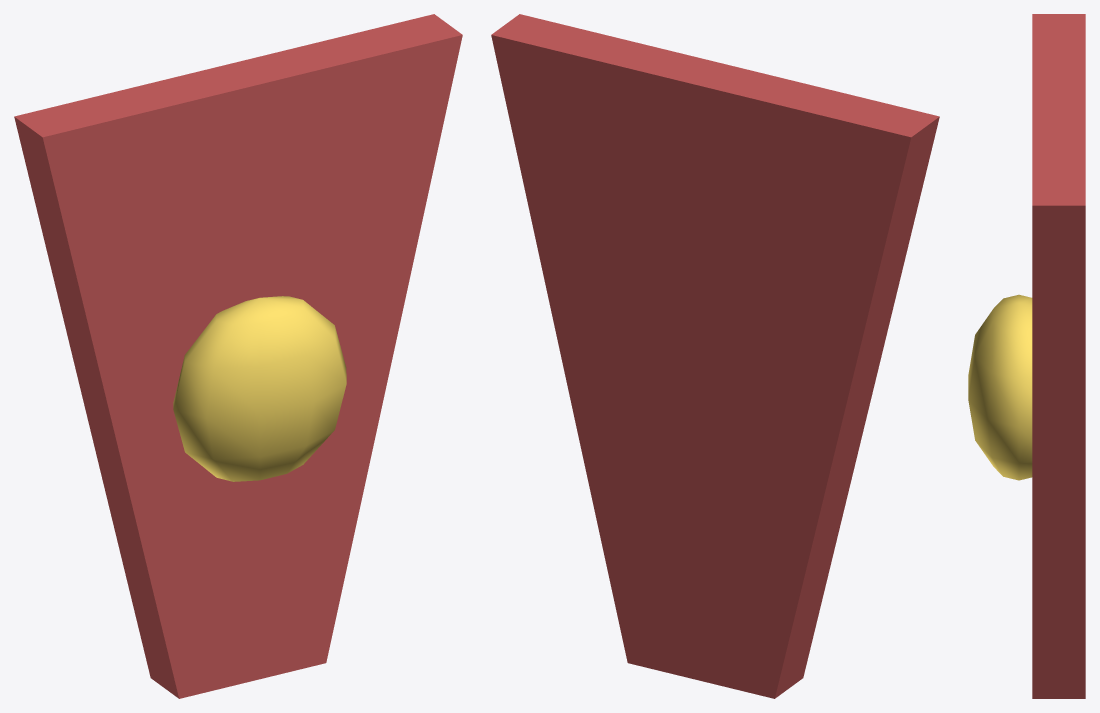
The model's file is shield_dragon.glb.
The picture shows the model from 3 angles, left to right: view 1: azimuth 30°, elevation 25°; view 2: azimuth 150°, elevation 25°; view 3: azimuth 270°, elevation 25°; orthographic projection. The views are drawn at different scales.
Parts seen in each view (by area): view 1: shield_plate, shield_boss; view 2: shield_plate; view 3: shield_plate, shield_boss.
Part boxes in pixels (left/top/right/bottom): shield_plate: left=14, top=14, right=462, bottom=698; shield_boss: left=173, top=296, right=346, bottom=481; shield_plate: left=491, top=14, right=939, bottom=698; shield_plate: left=1032, top=14, right=1085, bottom=698; shield_boss: left=968, top=294, right=1032, bottom=480.
Bounding box in the file's own units: 0.68 × 0.92 × 0.1761.
